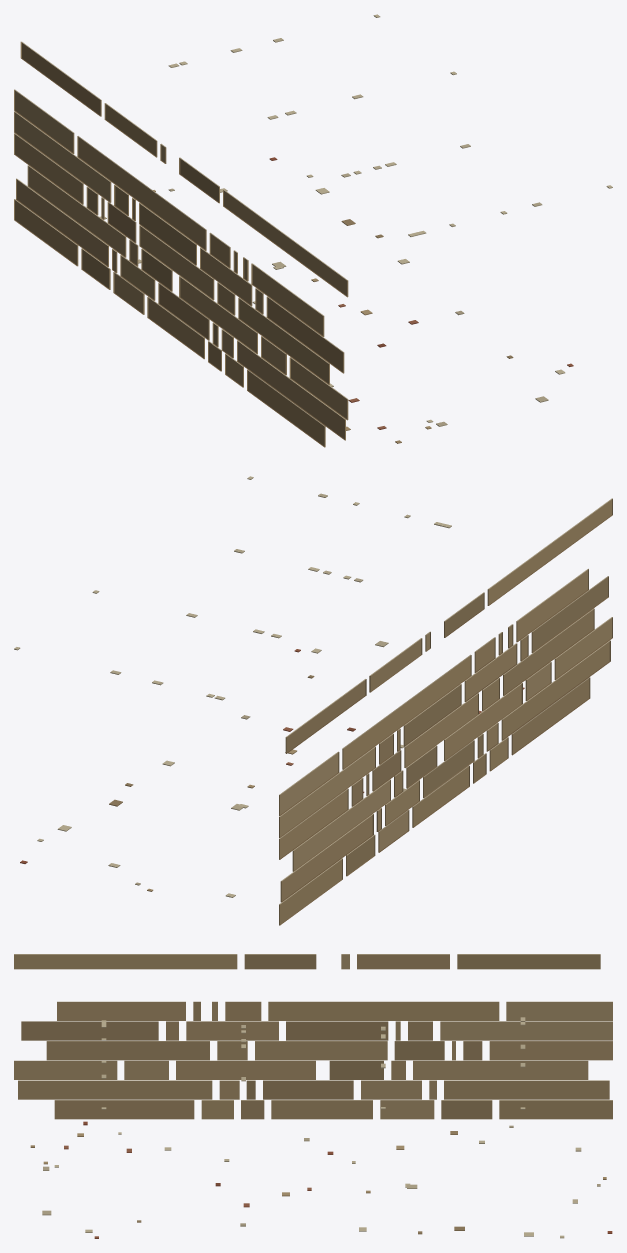
Rendered from viga_pivot_detail2.glb.
3 views of the same model, one above another, from view 1: azimuth 30°, elevation 25°; view 2: azimuth 150°, elevation 25°; view 3: azimuth 270°, elevation 25° (orthographic). The views are drawn at different scales.
Parts seen in each view (by area): view 1: viga_pivot_detail2; view 2: viga_pivot_detail2; view 3: viga_pivot_detail2.
Part boxes in pixels (box(x1,y1,x2,y2)): viga_pivot_detail2: box(14, 14, 612, 447); viga_pivot_detail2: box(14, 476, 612, 925); viga_pivot_detail2: box(14, 954, 612, 1238).
Bounding box in the file's own units: 10.53 × 5.9 × 19.3.
